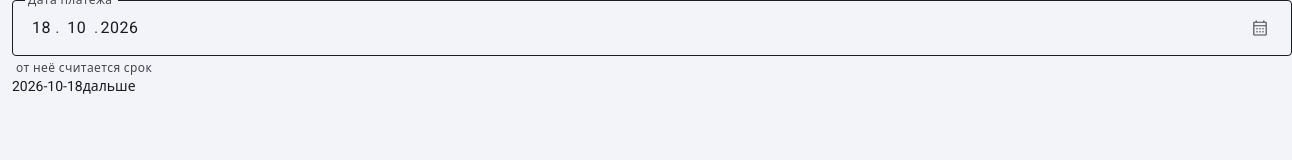
Test: DateInput: двузначный год и недописанное › уход с недописанным: набранное видно, ошибка под полем, значение НЕ сохранено
Clear the field with placeholder "ДД" at (42, 28), box [28,16,55,40]
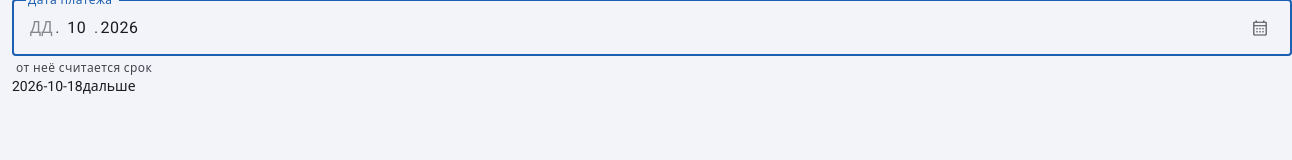
Replace the text in the field with placeholder "ММ" with "1" at (77, 28), box [60,16,94,40]
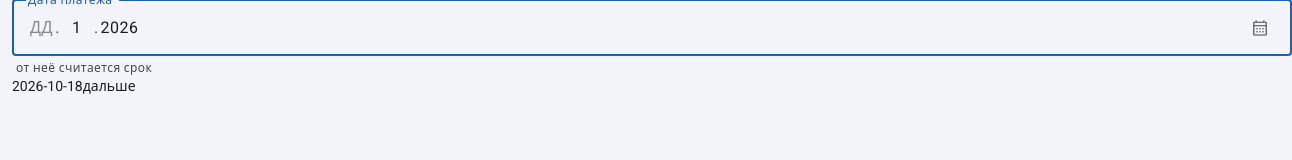
Check: the text "Дата не дописана" is not shown
Leave the field with placeholder "ММ", box [60,16,94,40]
Wait 200 ms
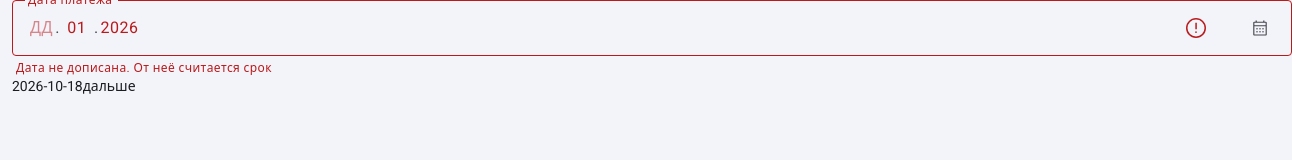
Check: the text with test id "value" reads "2026-10-18", box [12,78,83,94]
Check: the field with placeholder "ММ" holds "01", box [60,16,94,40]
Check: the text "Дата не дописана. От неё считается срок" is shown, box [16,61,272,75]
